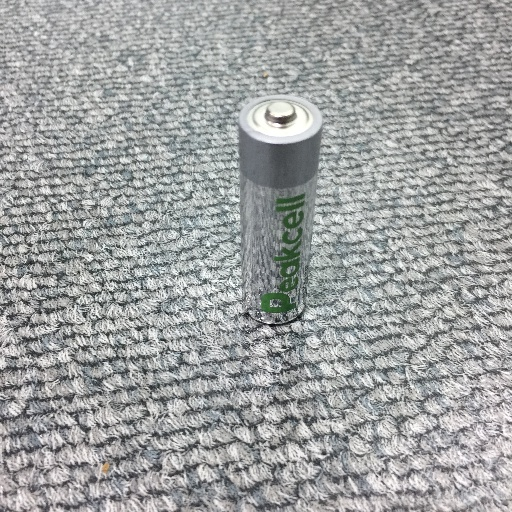Battery_0: (227, 86, 328, 339)
